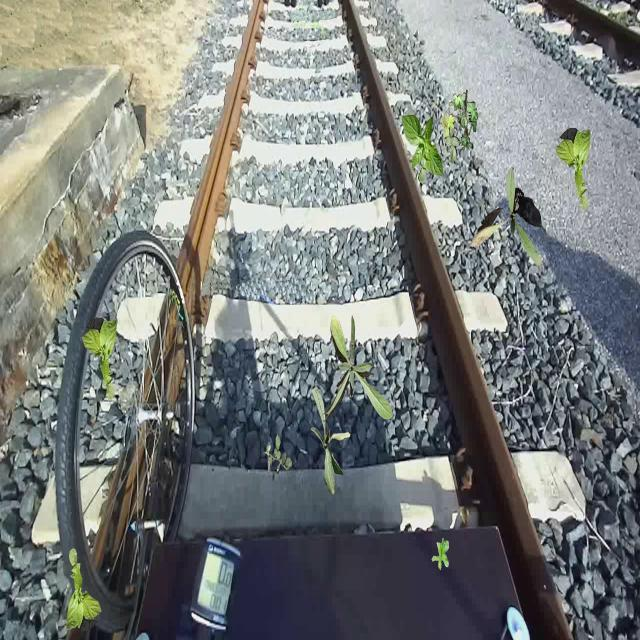Plant: (321, 314, 392, 422), (470, 167, 542, 266), (311, 386, 351, 496), (66, 548, 102, 632), (82, 317, 118, 400), (402, 112, 444, 183), (555, 127, 590, 210), (441, 89, 478, 162), (265, 435, 292, 476), (432, 538, 450, 570)
